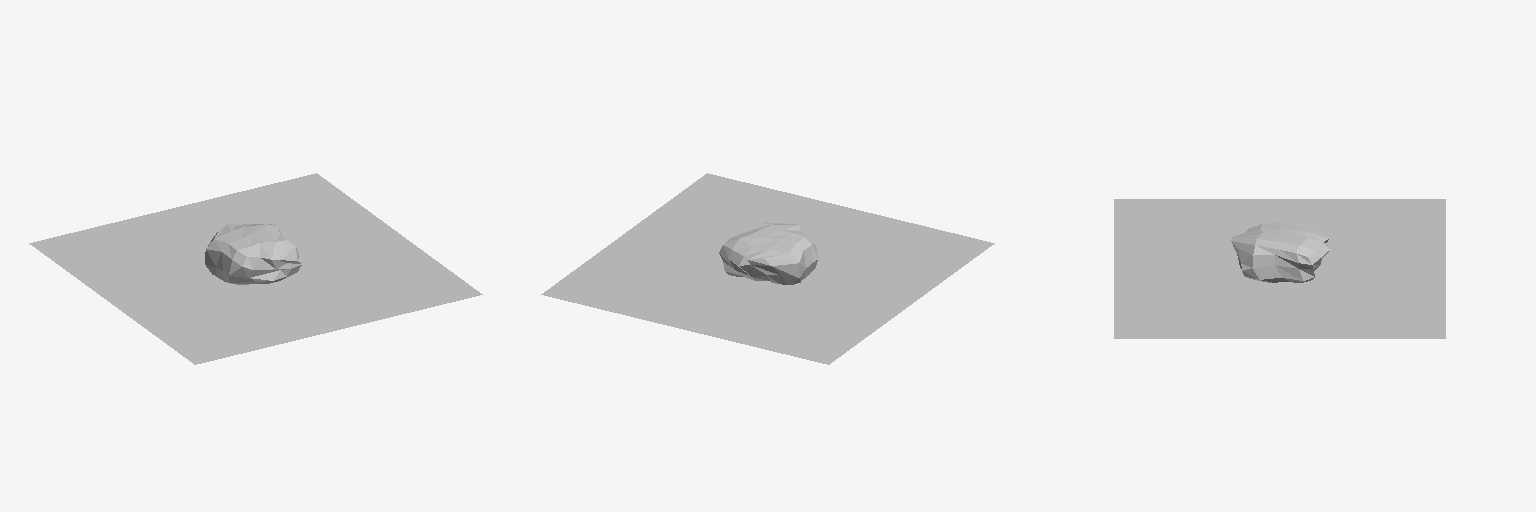
The model's file is Rock1.obj.
3 views of the same model, side by side, from view 1: azimuth 30°, elevation 25°; view 2: azimuth 150°, elevation 25°; view 3: azimuth 270°, elevation 25° (orthographic).
Parts seen in each view (by area): view 1: Plane, rock; view 2: Plane, rock; view 3: Plane, rock.
Boxes of the visible parts, box(x1,y1,x2,y2) form: Plane: box(29, 173, 482, 364); rock: box(205, 224, 301, 284); Plane: box(541, 173, 994, 364); rock: box(719, 222, 818, 284); Plane: box(1114, 199, 1445, 338); rock: box(1231, 223, 1329, 282).
Bounding box in the file's own units: 12.17 × 1.68 × 12.17.